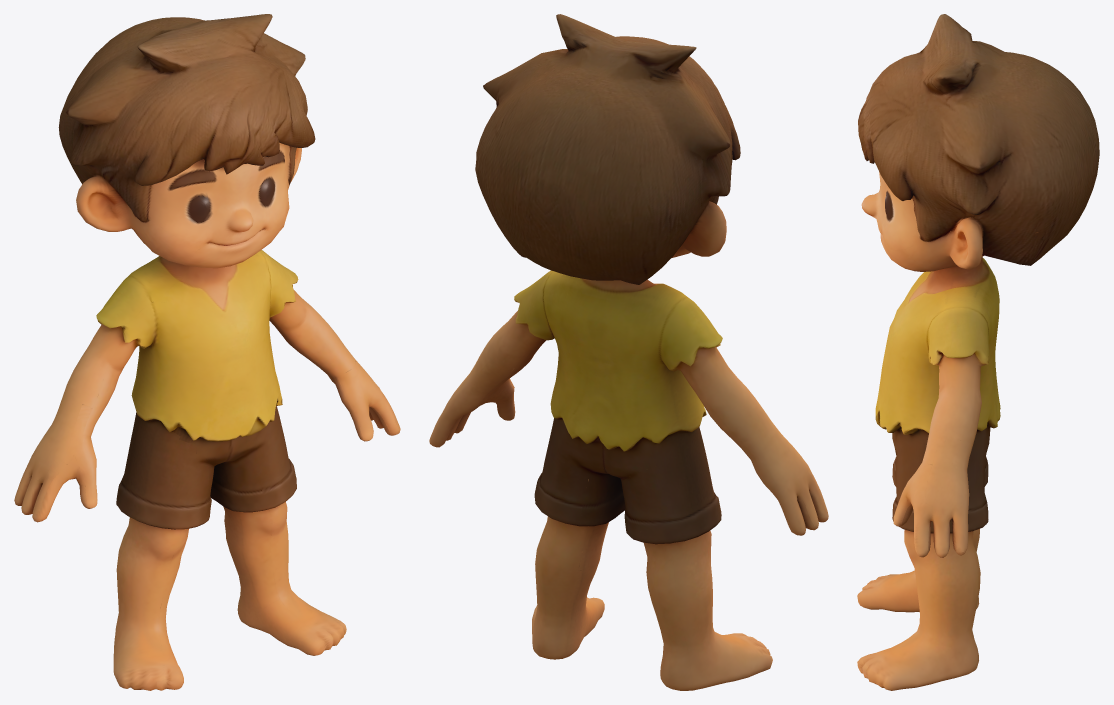
Rendered from base_basic_shaded.fbx.
3 views of the same model, side by side, from view 1: azimuth 30°, elevation 25°; view 2: azimuth 150°, elevation 25°; view 3: azimuth 270°, elevation 25° (orthographic). The views are drawn at different scales.
Visible parts, largest first — view 1: model; view 2: model; view 3: model.
Boxes of the visible parts, x1=… form: model: x1=14, y1=14, x2=400, y2=690; model: x1=429, y1=14, x2=828, y2=690; model: x1=857, y1=14, x2=1099, y2=690.
Bounding box in the file's own units: 119 × 189 × 69.87.
